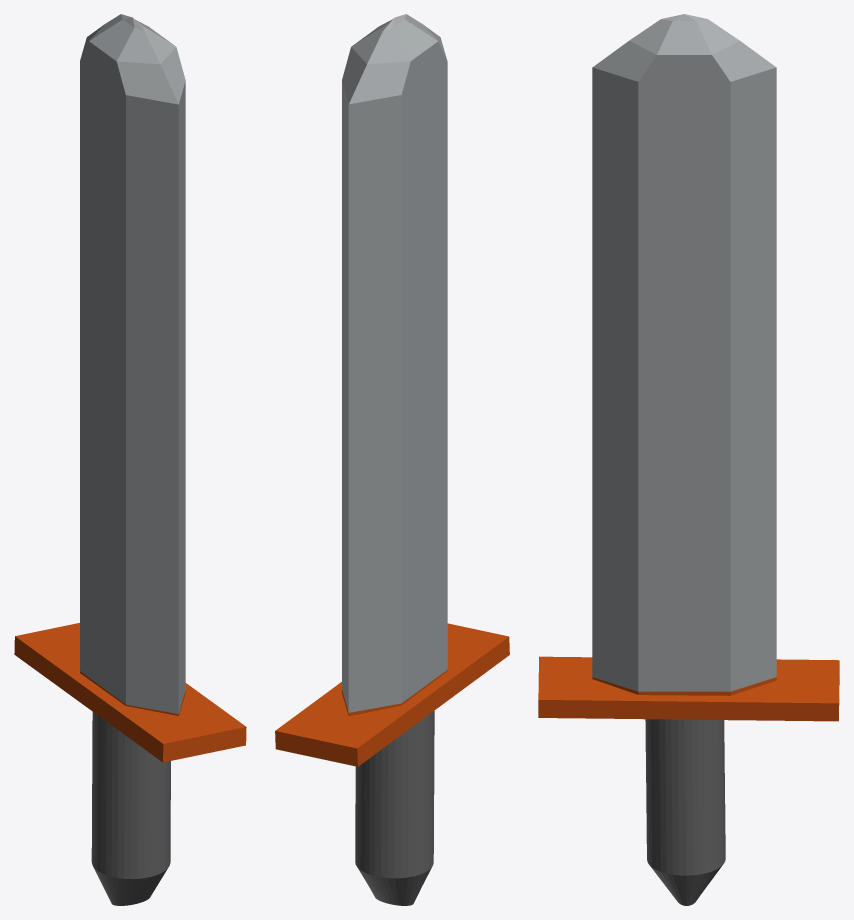
File: sword.obj
3 renders of one model, left to right at view 1: azimuth 30°, elevation 25°; view 2: azimuth 150°, elevation 25°; view 3: azimuth 270°, elevation 25°, orthographic.
Parts seen in each view (by area): view 1: Cylinder.001; view 2: Cylinder.001; view 3: Cylinder.001.
Boxes of the visible parts, left/top/right/bottom form: Cylinder.001: left=14, top=14, right=246, bottom=905; Cylinder.001: left=275, top=14, right=509, bottom=905; Cylinder.001: left=538, top=14, right=839, bottom=905.
Bounding box in the file's own units: 1.88 × 18.58 × 5.75.
